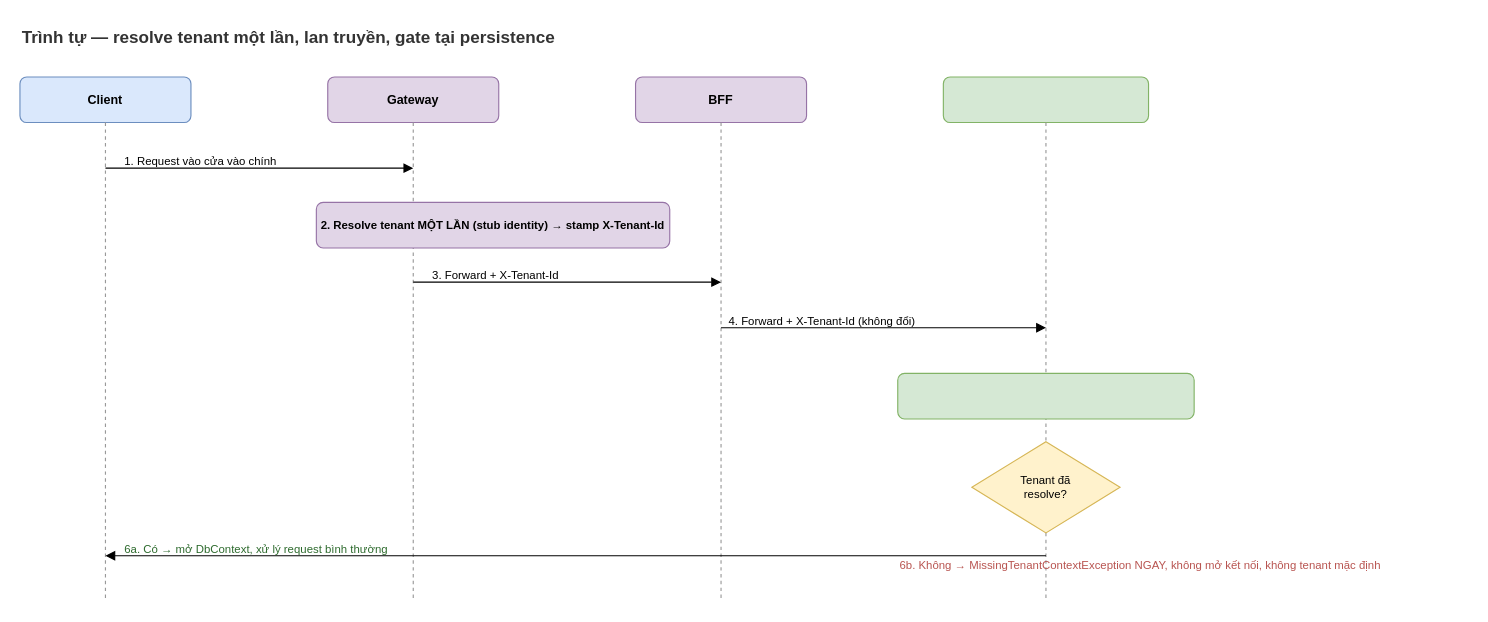
Image size: 1488x622. Some labels were removed from this diagram. Here are the shapes that lost their labels. From the top down, the centre of each, then its label:
At (1045,99): "Domain service".
At (1045,395): "5. TenantContext.Resolved từ header".
